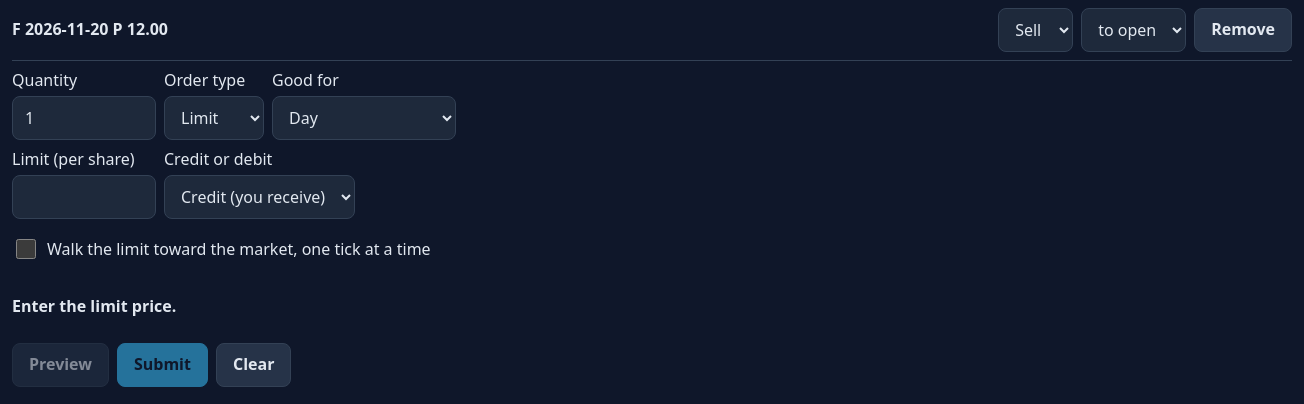
it: Ticket › says the limit as a credit or a debit in words, following the side chosen
Expected: the text with test id "opt-ticket-terms" reads "Enter the limit price.", x1=12 y1=295 x2=176 y2=317
Type "0.45" into the field labelled "Limit (per share)". click: {"x": 84, "y": 197}
box: x1=12 y1=175 x2=156 y2=219
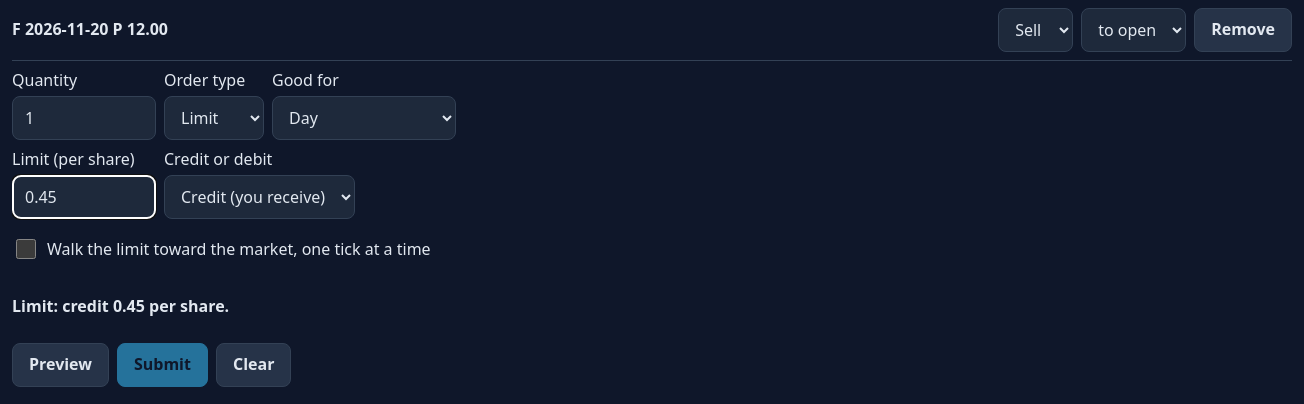
Select "Debit (you pay)" in the dropdown labelled "Credit or debit". click: {"x": 260, "y": 197}
box: x1=164 y1=175 x2=355 y2=219
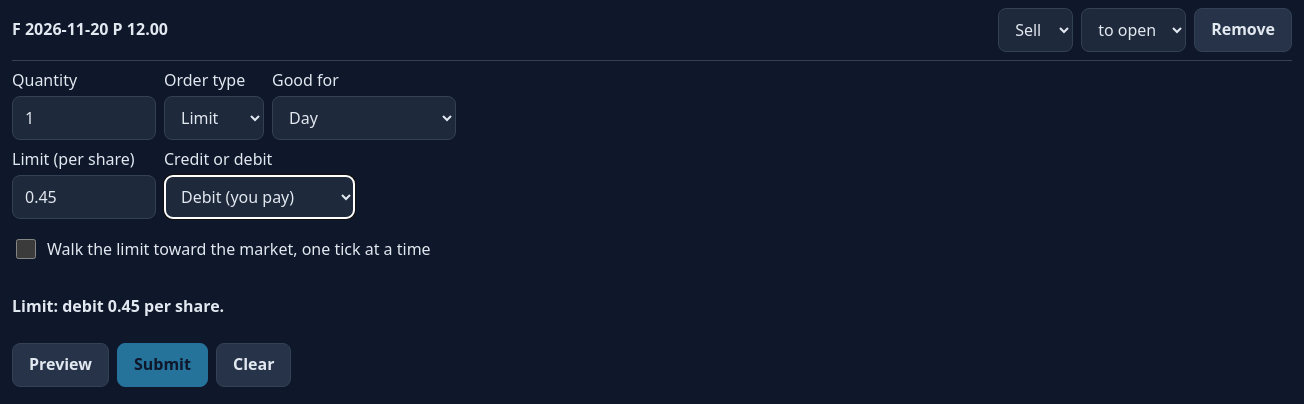
Select "Market" in the dropdown labelled "Order type". click: {"x": 214, "y": 118}
box: x1=164 y1=96 x2=264 y2=140
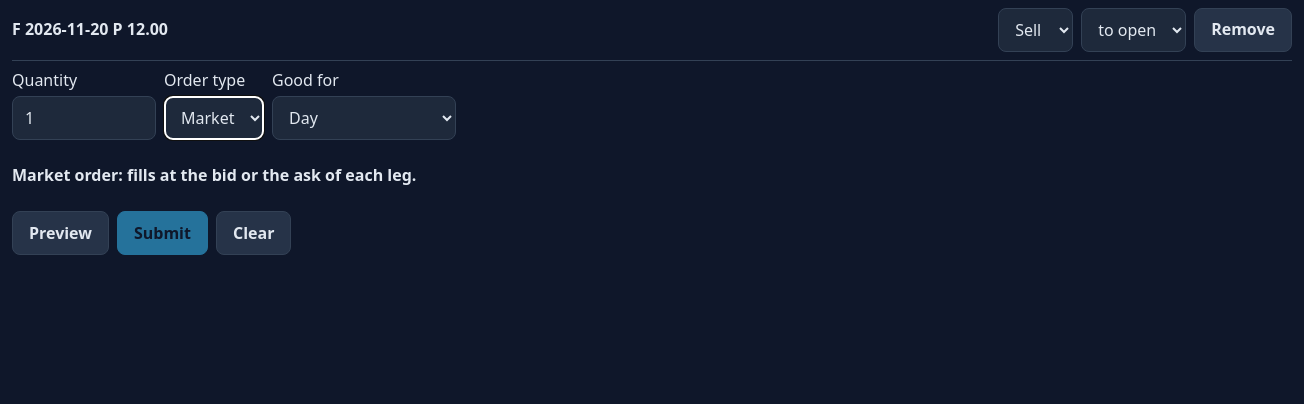
Result: the label labelled "Limit (per share)" is gone
